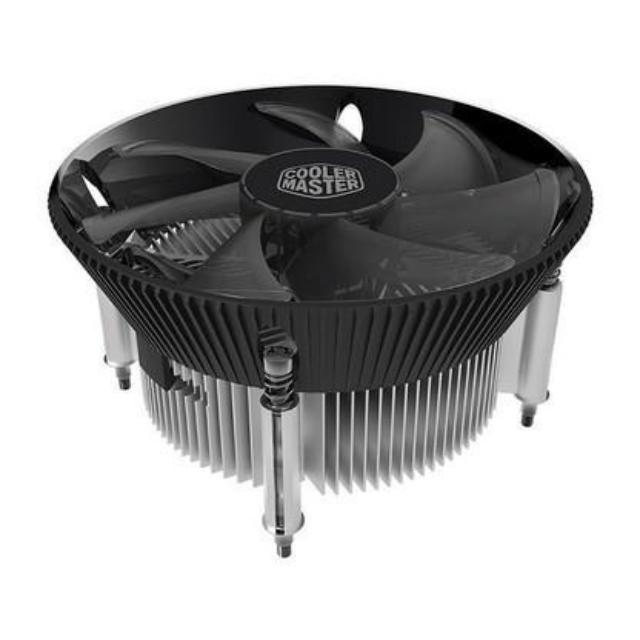CPU_Fan: (47, 86, 595, 486)
